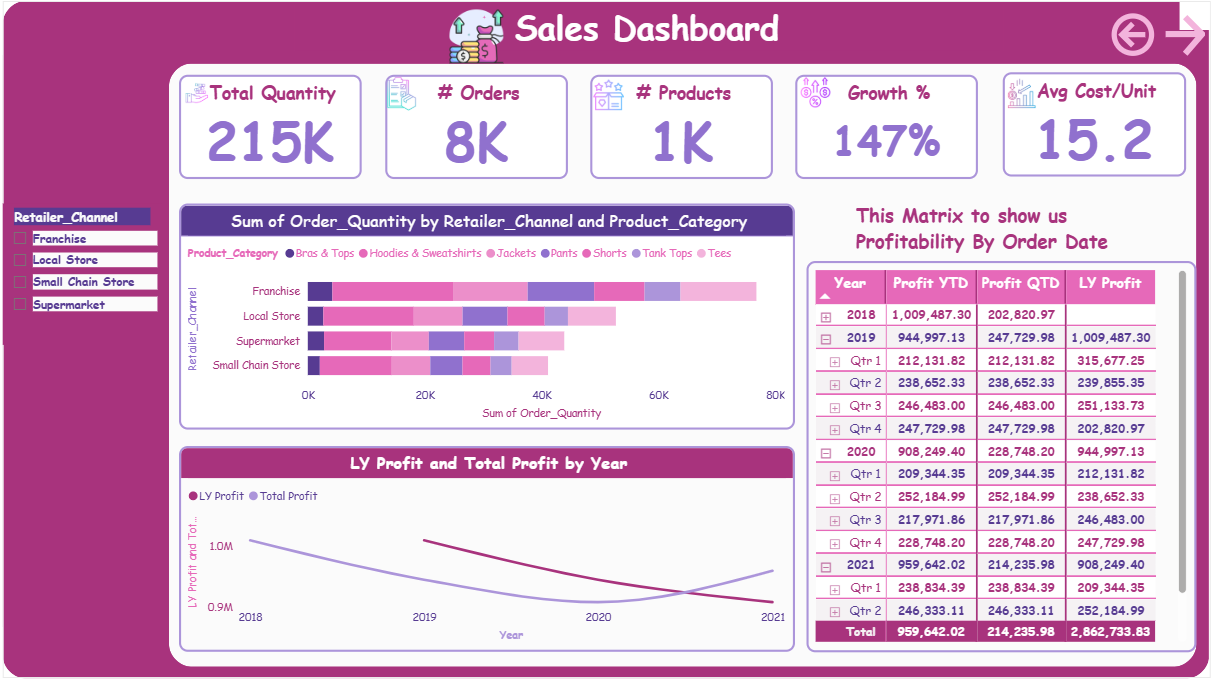

The page's visual inventory and layout, read from the dashboard file:
{"tool":"powerbi","page":{"name":"Order Analysis 1","canvas":[1400,800],"ordinal":4},"visuals":[{"type":"shape","box":[10.6,12.1,1378.8,774.2],"z":0},{"type":"shape","box":[200,83.3,1174.2,689.4],"z":1000},{"type":"textbox","title":"Sales Dashboard","box":[337.9,15.2,815.2,53],"z":2000},{"type":"card","title":"Total Quantity","fields":{"Values":["Calculations.Total Quantity"]},"box":[212,95.1,209,119],"z":3000},{"type":"barChart","fields":{"Y":["Sum(Orders. Order_Quantity )"],"Category":["Retailers.Retailer_Channel"],"Series":["Products (2).Product_Category"]},"box":[212,243.2,703.8,258.2],"z":4000},{"type":"card","title":"# Orders","fields":{"Values":["Calculations.# Orders"]},"box":[446.7,95.1,209,119],"z":5000},{"type":"card","title":"# Products","fields":{"Values":["Calculations.# Products"]},"box":[681.4,95.1,209,119],"z":6000},{"type":"card","title":"Growth %","fields":{"Values":["Calculations.Growth%"]},"box":[916.1,95.1,209,119.6],"z":7000},{"type":"pivotTable","fields":{"Values":["Calculations.Profit YTD","Calculations.Profit QTD","Calculations.LY Profit"],"Rows":["Calender.Date.Variation.Date Hierarchy.Year","Calender.Date.Variation.Date Hierarchy.Quarter","Calender.Date.Variation.Date Hierarchy.Month","Calender.Date.Variation.Date Hierarchy.Day"]},"box":[928,308.4,445.7,447],"z":8000},{"type":"textbox","box":[979.6,235.1,375,120.9],"z":9000},{"type":"image","box":[212,91,40.8,50.3],"z":10000},{"type":"image","box":[441.6,91,48.9,51.6],"z":11000},{"type":"image","box":[679.4,91,44.8,54.3],"z":12000},{"type":"image","box":[913,91,51.6,48.9],"z":13000},{"type":"lineChart","fields":{"Category":["Calender.Date.Variation.Date Hierarchy.Year"],"Y":["Calculations.LY Profit","Calculations.Total Profit"]},"box":[212,520.4,703.8,235.1],"z":14000},{"type":"card","title":"Avg Cost/Unit","fields":{"Values":["Calculations.Avg Cost/Unit"]},"box":[1153.5,92.4,209.2,119.6],"z":15000},{"type":"image","box":[1153.5,91,43.5,51.6],"z":16000},{"type":"slicer","fields":{"Values":["Retailers.Retailer_Channel"]},"box":[10,242.9,181.4,161.4],"z":17000},{"type":"image","box":[515.7,11.4,71.4,80],"z":20000},{"type":"actionButton","box":[1224.3,8.6,118.6,82.9],"z":21000},{"type":"actionButton","box":[1320,22.9,80,55.7],"z":22000}]}

Visuals, with their boxes in screenshot pixels (x1, y1, x2, y2), scaled from the page's 1400x800 canvas onto the 1215x683 screenshot:
shape: rect(9, 10, 1206, 671)
shape: rect(174, 71, 1193, 660)
"Sales Dashboard" textbox: rect(293, 13, 1001, 58)
"Total Quantity" card: rect(184, 81, 365, 183)
barChart - Sum(Orders. Order_Quantity ) x Retailers.Retailer_Channel: rect(184, 208, 795, 428)
"# Orders" card: rect(388, 81, 569, 183)
"# Products" card: rect(591, 81, 773, 183)
"Growth %" card: rect(795, 81, 976, 183)
pivotTable - Calculations.Profit YTD x Calculations.Profit QTD: rect(805, 263, 1192, 645)
textbox: rect(850, 201, 1176, 304)
image: rect(184, 78, 219, 121)
image: rect(383, 78, 426, 122)
image: rect(590, 78, 629, 124)
image: rect(792, 78, 837, 119)
lineChart - Calender.Date.Variation.Date Hierarchy.Year x Calculations.LY Profit: rect(184, 444, 795, 645)
"Avg Cost/Unit" card: rect(1001, 79, 1183, 181)
image: rect(1001, 78, 1039, 122)
slicer - Retailers.Retailer_Channel: rect(9, 207, 166, 345)
image: rect(448, 10, 510, 78)
actionButton: rect(1063, 7, 1165, 78)
actionButton: rect(1146, 20, 1214, 67)
